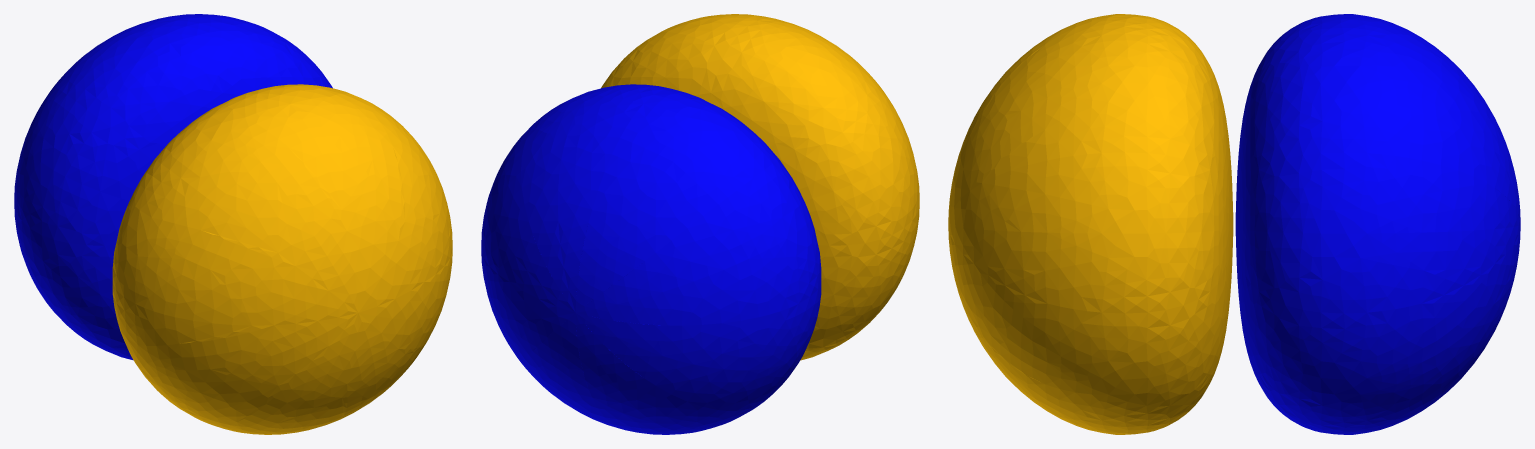
The picture shows the model from 3 angles, left to right: view 1: azimuth 30°, elevation 25°; view 2: azimuth 150°, elevation 25°; view 3: azimuth 270°, elevation 25°; orthographic projection. The views are drawn at different scales.
Size of the model in its own units: 8.8 by 8.8 by 11.95.
